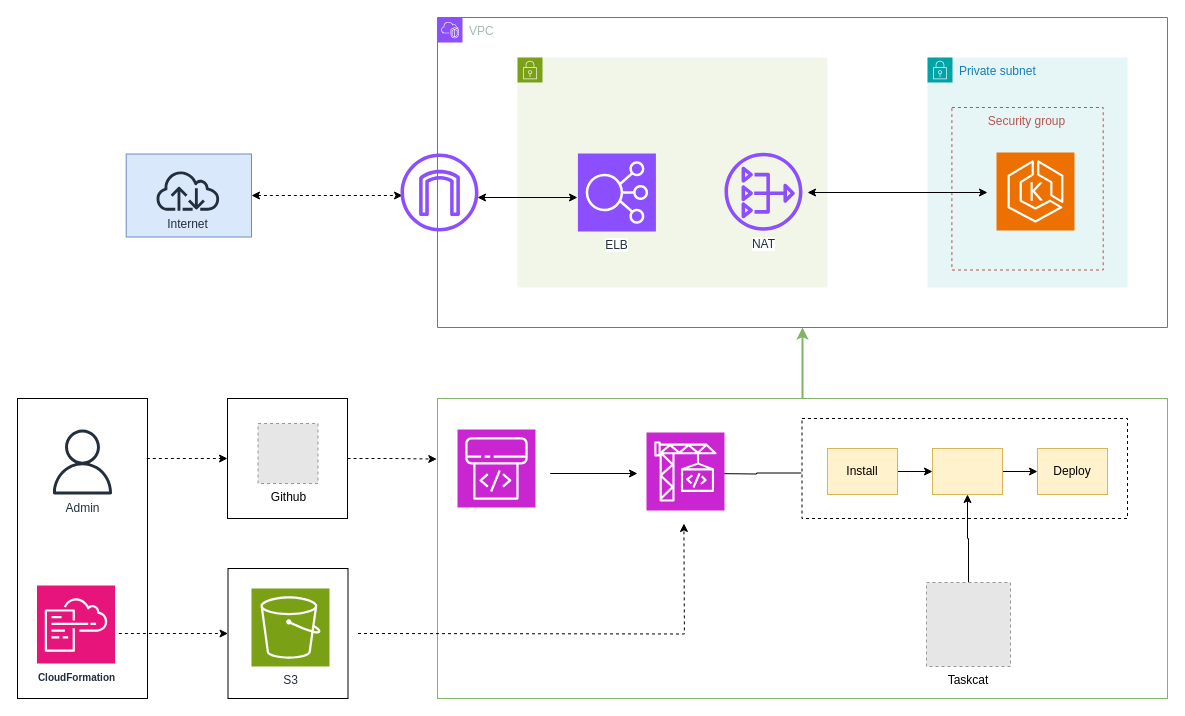
Image size: 1185x716. Some labels were removed from this diagram. Grey dashed boxes stand in for pictures. The box of each missing label's shape, as (x1, y1, x2, y2) in pixels:
CodeBuild: (646, 432, 724, 510)
CodePipeline: (456, 428, 536, 508)
EKS: (996, 152, 1074, 230)
IGW: (400, 153, 478, 231)
Public subnet: (516, 56, 828, 288)
Test: (932, 448, 1002, 494)
